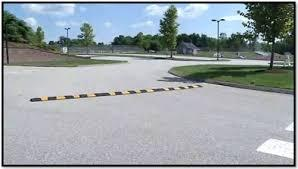Bump: (28, 82, 212, 104)
